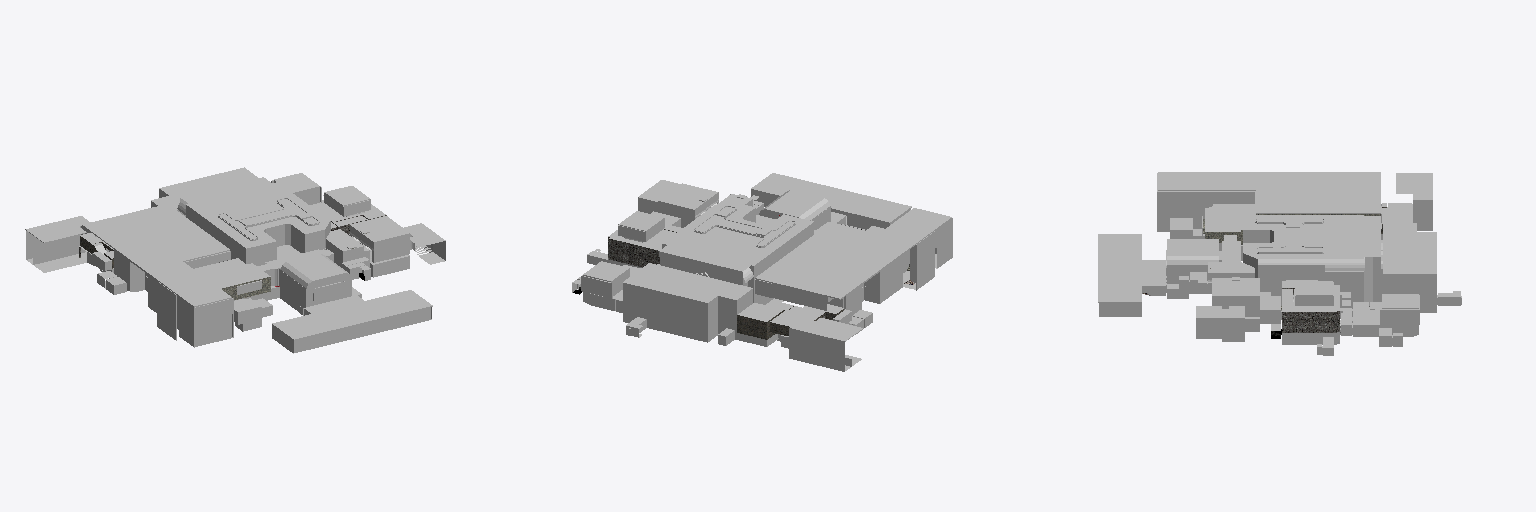
3 renders of one model, left to right at view 1: azimuth 30°, elevation 25°; view 2: azimuth 150°, elevation 25°; view 3: azimuth 270°, elevation 25°, orthographic.
Parts seen in each view (by area): view 1: bsp_model_0; view 2: bsp_model_0; view 3: bsp_model_0, bsp_model_149, bsp_model_210.
Part boxes in pixels (x1,y1,x2,y2): bsp_model_0: (25, 167, 445, 353); bsp_model_0: (572, 173, 952, 371); bsp_model_0: (1098, 172, 1461, 355); bsp_model_149: (1258, 257, 1364, 270); bsp_model_210: (1364, 257, 1380, 305).
Bounding box in the file's own units: 144 × 26.75 × 148.
127 materials, 15 textured.